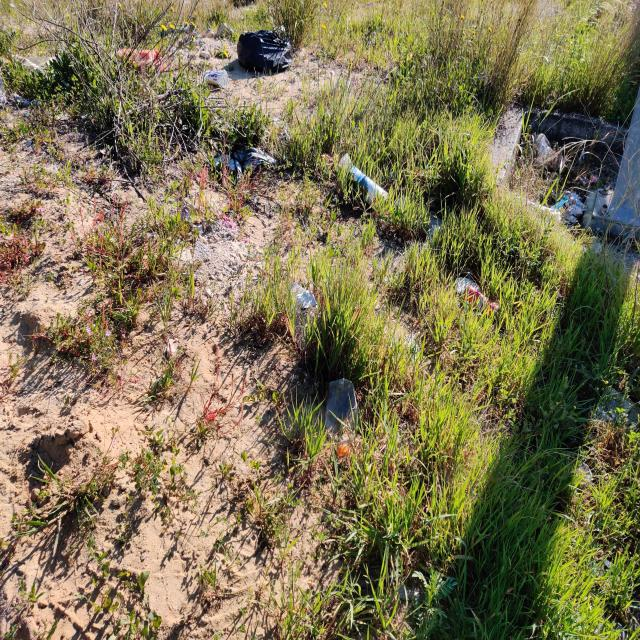litter: (331, 144, 401, 216), (234, 21, 294, 73), (114, 44, 172, 82), (288, 279, 325, 330), (202, 63, 232, 95), (332, 431, 354, 460)
